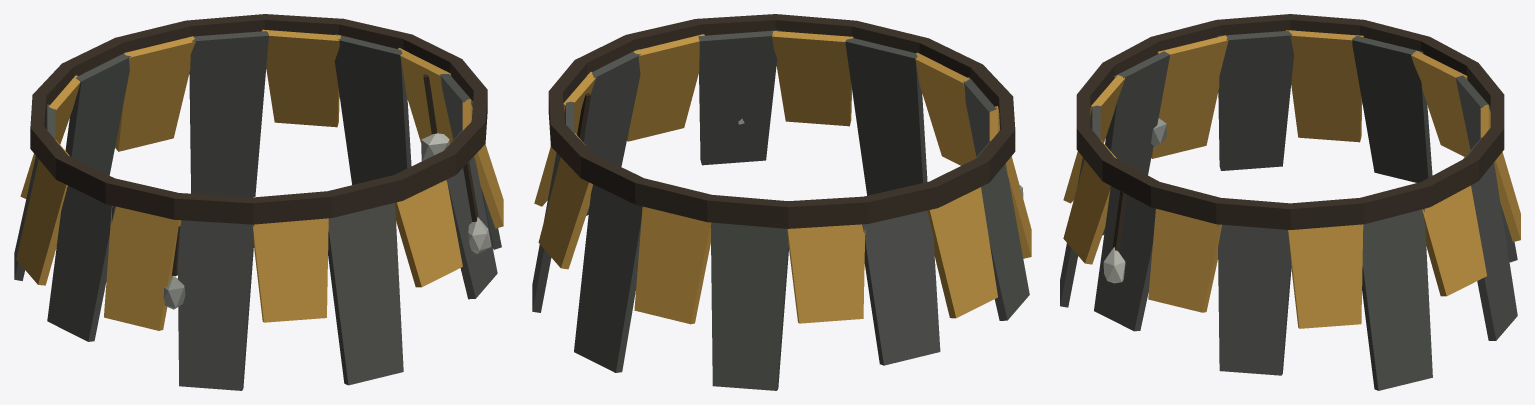
File: stone_singer_robes.glb
3 renders of one model, left to right at view 1: azimuth 30°, elevation 25°; view 2: azimuth 150°, elevation 25°; view 3: azimuth 270°, elevation 25°, orthographic. The views are drawn at different scales.
Parts seen in each view (by area): view 1: stone_singer_robes; view 2: stone_singer_robes; view 3: stone_singer_robes.
Part boxes in pixels (left/top/right/bottom): stone_singer_robes: left=14, top=14, right=503, bottom=390; stone_singer_robes: left=532, top=14, right=1031, bottom=390; stone_singer_robes: left=1060, top=14, right=1520, bottom=390.
Size of the model in its own units: 1.07 by 0.4409 by 0.9975.
